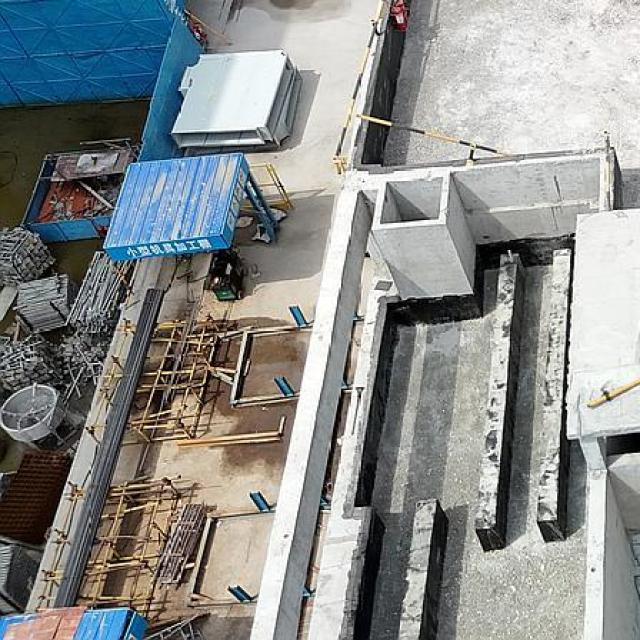edge_guardrail: (329, 0, 388, 176), (354, 112, 506, 167)
